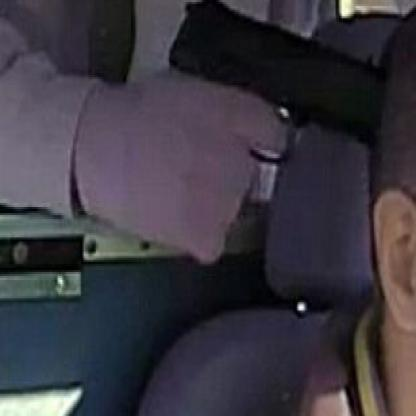gun: (156, 0, 394, 187)
